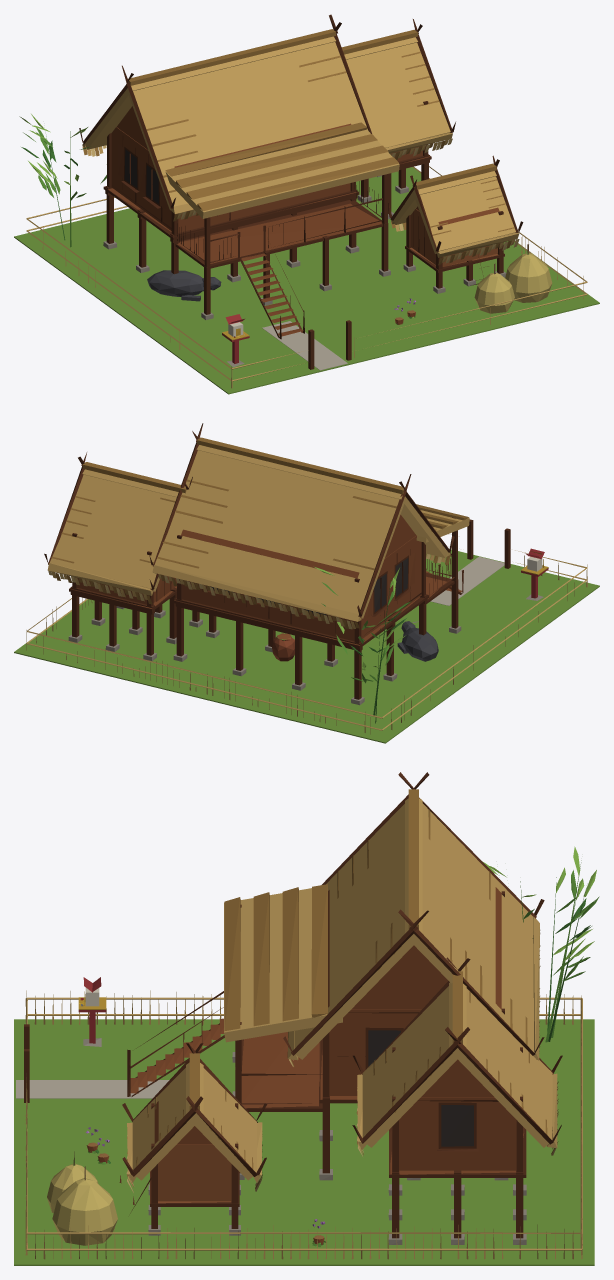
File: home_4.glb
3 renders of one model, top to bottom at view 1: azimuth 30°, elevation 25°; view 2: azimuth 150°, elevation 25°; view 3: azimuth 270°, elevation 25°, orthographic. The views are drawn at different scales.
Parts seen in each view (by area): view 1: body, windows; view 2: body, windows; view 3: body, windows.
Part boxes in pixels (<box>): body: <box>14,14,599,394</box>; windows: <box>124,149,158,203</box>; body: <box>14,423,599,743</box>; windows: <box>211,558,408,615</box>; body: <box>14,772,599,1265</box>; windows: <box>368,1030,473,1146</box>.
Size of the model in its own units: 16.01 by 8.63 by 16.05.
